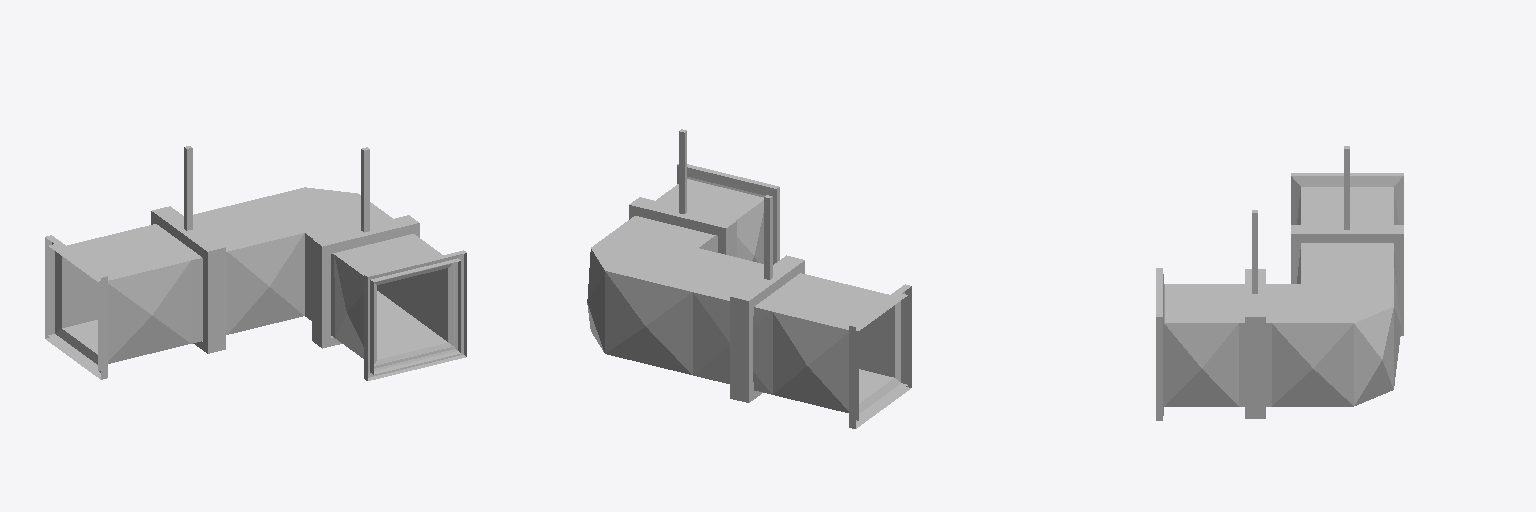
File: AIRPIPE.obj
The picture shows the model from 3 angles: view 1: azimuth 30°, elevation 25°; view 2: azimuth 150°, elevation 25°; view 3: azimuth 270°, elevation 25°; orthographic projection.
Visible parts, largest first — view 1: Group; view 2: Group; view 3: Group.
Part boxes in pixels (left/top/right/bottom): Group: left=45, top=146, right=466, bottom=380; Group: left=587, top=129, right=911, bottom=428; Group: left=1156, top=146, right=1403, bottom=420.
Bounding box in the file's own units: 235 × 139 × 168.